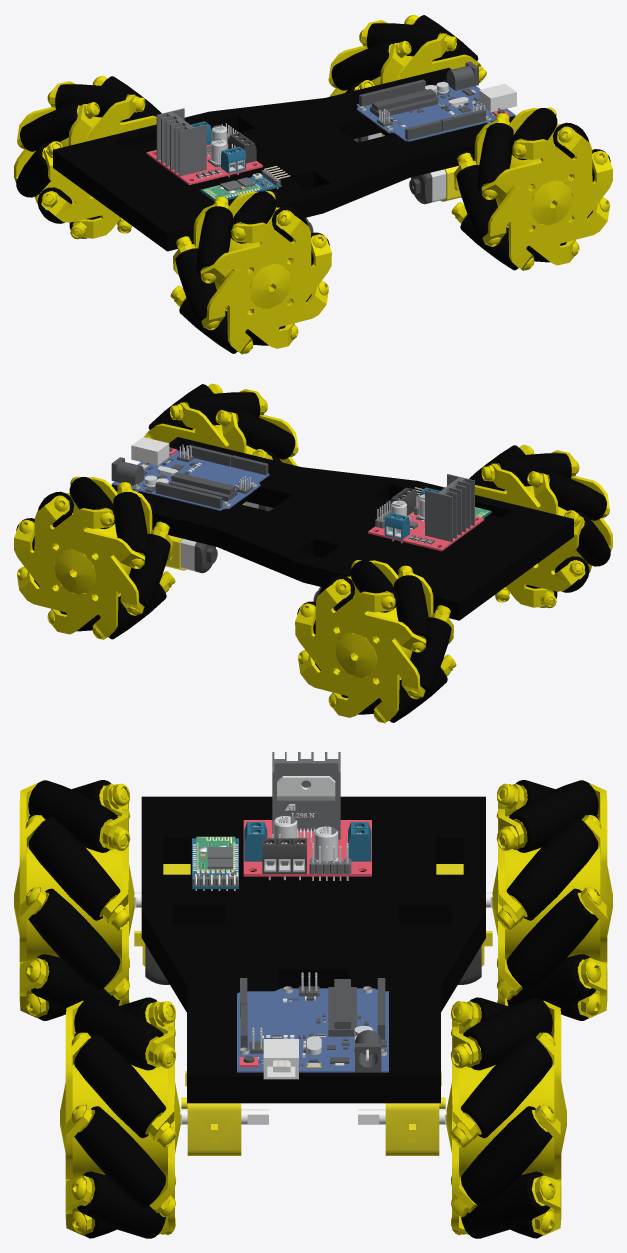
3 views of the same model, one above another, from view 1: azimuth 30°, elevation 25°; view 2: azimuth 150°, elevation 25°; view 3: azimuth 270°, elevation 25° (orthographic). The views are drawn at different scales.
Parts seen in each view (by area): view 1: Plane.001, Mecanum Wheel.004, Mecanum Wheel.002, Mecanum Wheel.001, Button_Low, Mecanum Wheel.003, obj_0.001, obj_0.011, Modulo bluethoot; view 2: Plane.001, Mecanum Wheel.003, Mecanum Wheel.001, Mecanum Wheel.002, Button_Low, Mecanum Wheel.004, obj_0.001, obj_0.004; view 3: Plane.001, Mecanum Wheel.003, Mecanum Wheel.004, Mecanum Wheel.001, Mecanum Wheel.002, Button_Low, obj_0.001, obj_0.011, obj_0.004, Modulo bluethoot, obj_0.003, obj_0.005.
Part boxes in pixels (bbox=[...]): Plane.001: bbox=[53, 68, 515, 251]; Mecanum Wheel.004: bbox=[451, 107, 612, 270]; Mecanum Wheel.002: bbox=[170, 191, 331, 354]; Mecanum Wheel.001: bbox=[14, 75, 161, 239]; Button_Low: bbox=[356, 61, 516, 141]; Mecanum Wheel.003: bbox=[328, 14, 486, 96]; obj_0.001: bbox=[146, 108, 262, 185]; obj_0.011: bbox=[409, 166, 461, 204]; Modulo bluethoot: bbox=[200, 166, 290, 200]; Plane.001: bbox=[111, 437, 573, 620]; Mecanum Wheel.003: bbox=[14, 476, 175, 639]; Mecanum Wheel.001: bbox=[295, 560, 456, 723]; Mecanum Wheel.002: bbox=[469, 444, 612, 608]; Button_Low: bbox=[111, 437, 269, 510]; Mecanum Wheel.004: bbox=[143, 383, 298, 465]; obj_0.001: bbox=[368, 474, 484, 551]; obj_0.004: bbox=[165, 535, 217, 573]; Plane.001: bbox=[141, 796, 485, 1103]; Mecanum Wheel.003: bbox=[446, 997, 566, 1238]; Mecanum Wheel.004: bbox=[60, 997, 180, 1238]; Mecanum Wheel.001: bbox=[492, 780, 612, 1020]; Mecanum Wheel.002: bbox=[14, 780, 134, 1020]; Button_Low: bbox=[237, 972, 388, 1079]; obj_0.001: bbox=[243, 752, 371, 880]; obj_0.011: bbox=[180, 1071, 268, 1155]; obj_0.004: bbox=[358, 1071, 446, 1155]; Modulo bluethoot: bbox=[192, 836, 238, 890]; obj_0.003: bbox=[134, 864, 190, 984]; obj_0.005: bbox=[436, 864, 492, 984].
Bounding box in the file's own units: 0.2504 × 0.0919 × 0.2005.
